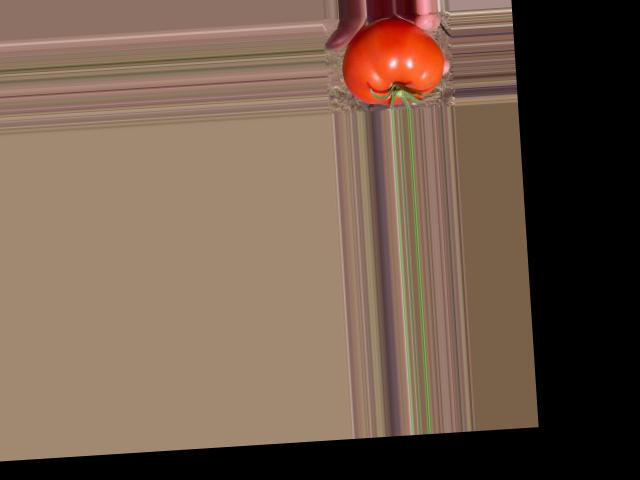tomato: (341, 15, 446, 107)
